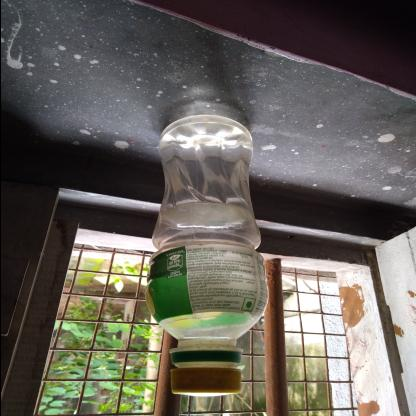bottle: (13, 216, 396, 311)
